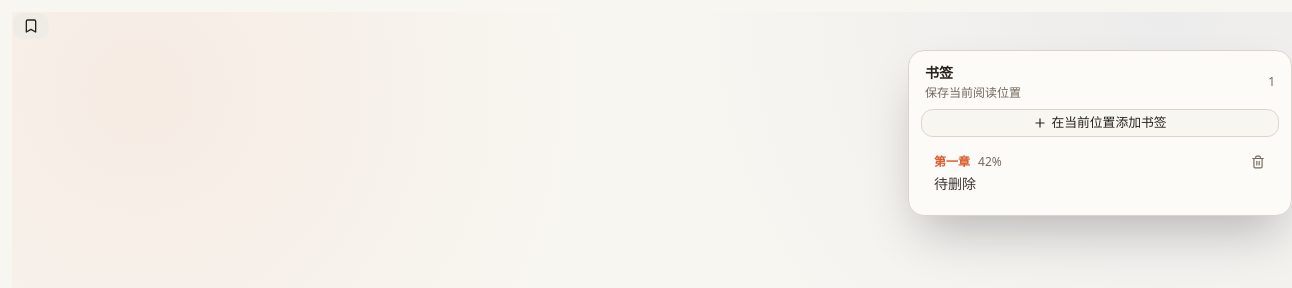
Test: ReaderBookmarks › deletes a bookmark and removes it from the list
The image size is (1292, 288).
Click the button titled "删除书签" at coordinates (1258, 162), box [1246,150,1270,174]
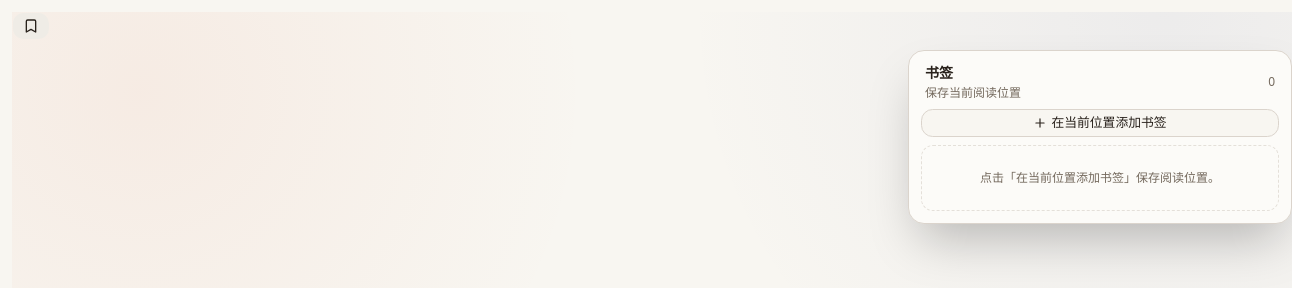
Now the button "待删除" is gone
